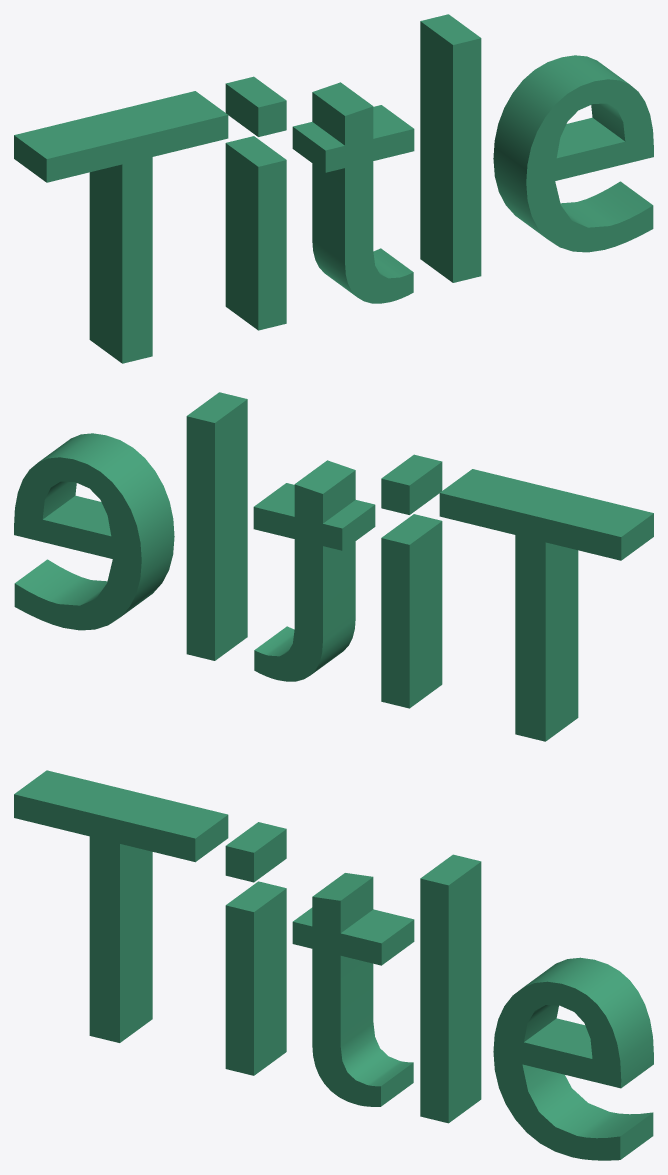
Rendered from Title.fbx.
3 views of the same model, one above another, from view 1: azimuth 30°, elevation 25°; view 2: azimuth 150°, elevation 25°; view 3: azimuth 330°, elevation 25° (orthographic).
Visible parts, largest first — view 1: typeMesh1; view 2: typeMesh1; view 3: typeMesh1.
Boxes of the visible parts, x1,y1,x2,y2 form: typeMesh1: (14, 14, 653, 363); typeMesh1: (14, 392, 653, 741); typeMesh1: (14, 770, 653, 1160).
Size of the model in its own units: 26.73 by 10.17 by 2.5.
